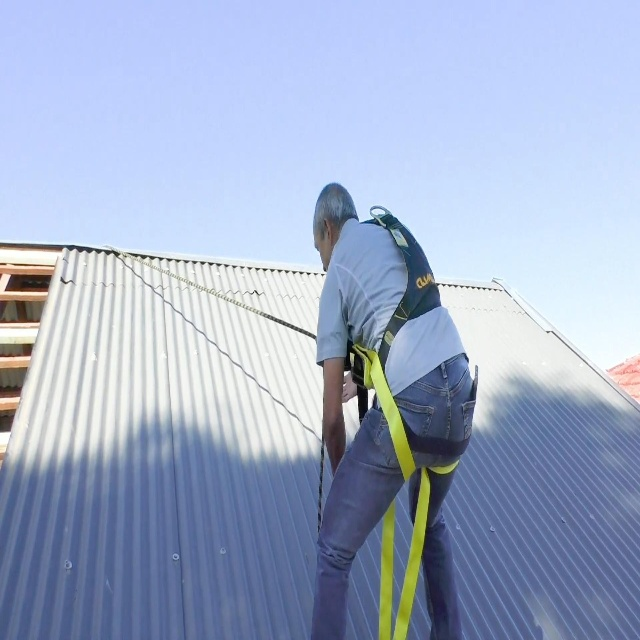Arnes_seguridad: (346, 189, 476, 640)
